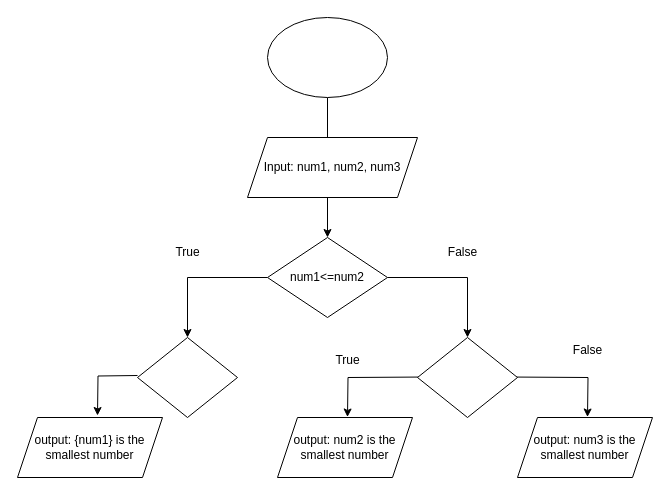
This 670x495 diagram has some shape labels left out. The shapes that lost their labels are listed below. From the top down, each one's centre as x and y in pixels, then its label:
[327,57]: Find the min value
[187,377]: num1<=num3
[467,377]: num2<=num3
